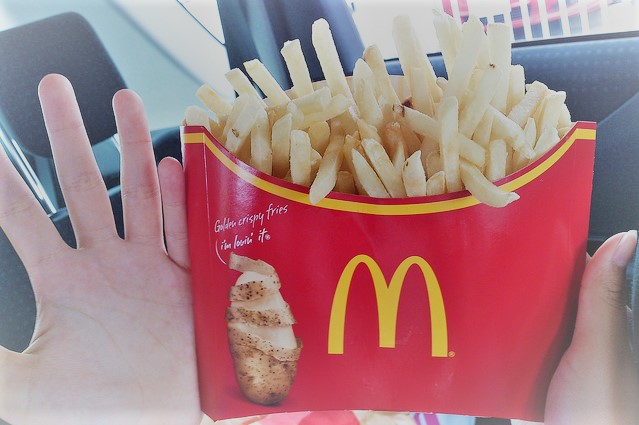mcdonalds: (322, 246, 471, 359)
